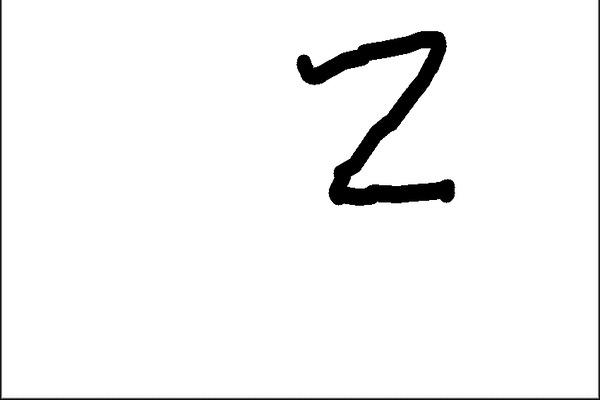Z: (290, 20, 479, 214)
